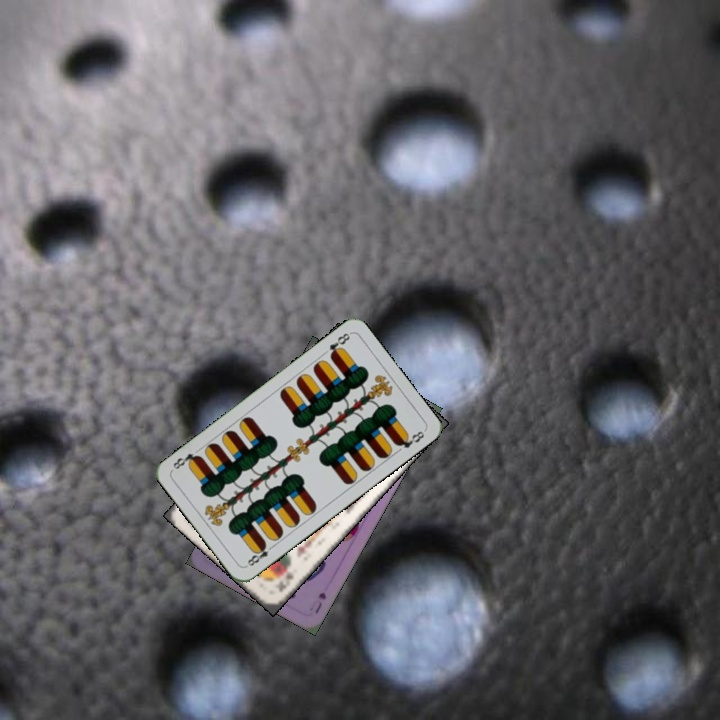E8: (242, 539, 277, 569), (325, 329, 352, 361)
SK: (272, 569, 296, 594)
SU: (305, 588, 329, 616)
